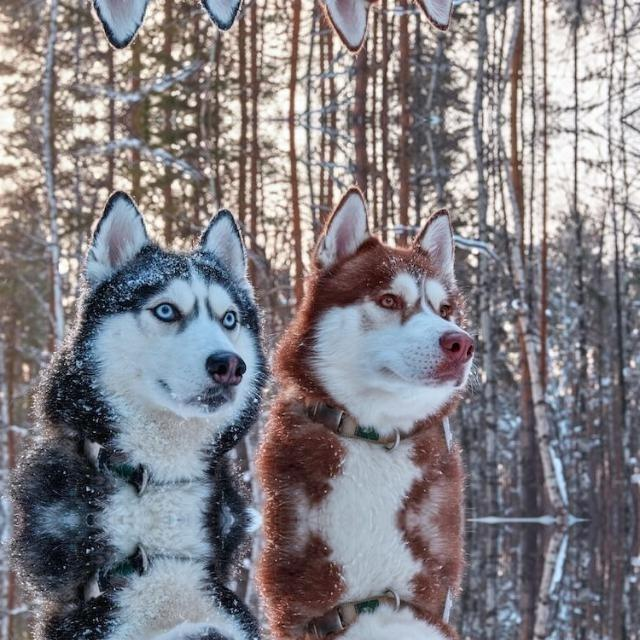dog: (0, 203, 264, 519), (262, 191, 492, 519), (1, 519, 264, 640), (262, 519, 493, 640), (262, 0, 493, 47), (1, 0, 264, 35)
